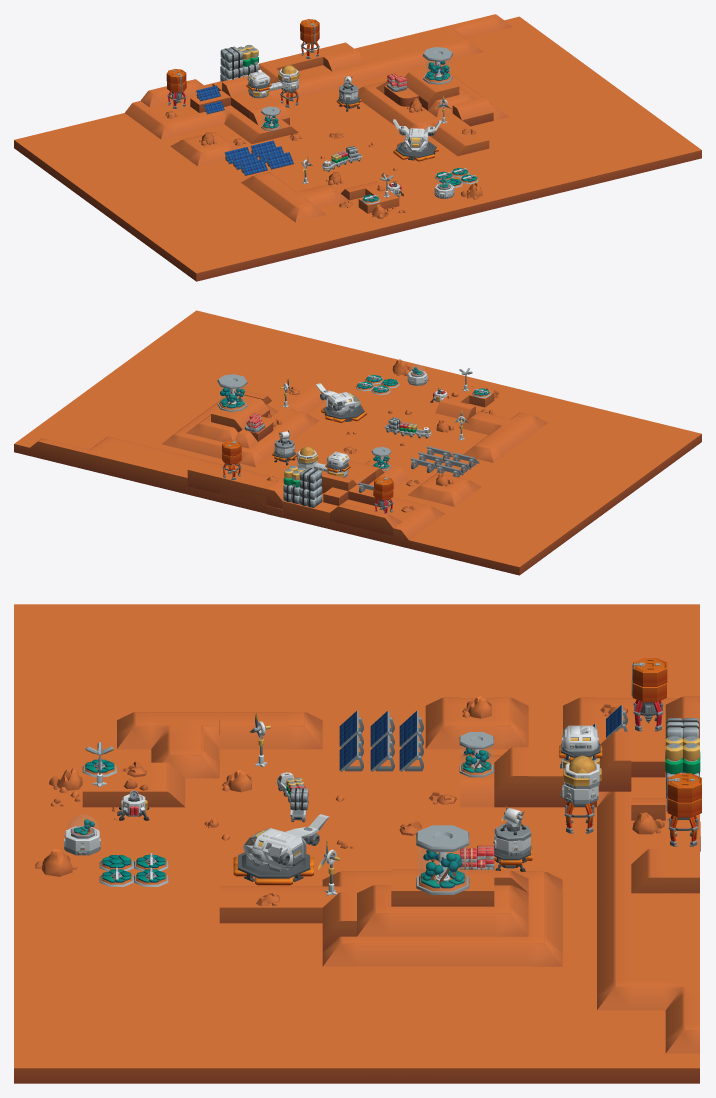
File: mars-empires.glb
The picture shows the model from 3 angles, top to bottom: view 1: azimuth 30°, elevation 25°; view 2: azimuth 150°, elevation 25°; view 3: azimuth 270°, elevation 25°; orthographic projection. The views are drawn at different scales.
Visible parts, largest first — view 1: terrain_low.172, solarpanel.012, landingpad_small.001, cargo_B_stacked.005, eco_module.003, drill_structure.001, basemodule_B.001, space_farm_large.001, spacetruck.001, lander_base.001, water_storage.007; view 2: terrain_low.172, cargo_B_stacked.005, landingpad_small.001, solarpanel.012, eco_module.003, drill_structure.001, space_farm_large.001, spacetruck.001, basemodule_B.001, lander_base.001, water_storage.007; view 3: terrain_low.172, landingpad_small.001, solarpanel.012, eco_module.003, drill_structure.001, cargo_B_stacked.005, space_farm_large.001, water_storage.007, lander_base.001, eco_module.002, basemodule_B.001, basemodule_C.004 (+3 smaller).
Boxes of the visible parts, x1,y1,x2,y2 form: terrain_low.172: (14, 14, 701, 281); solarpanel.012: (224, 140, 293, 175); landingpad_small.001: (393, 119, 441, 161); cargo_B_stacked.005: (220, 45, 259, 81); eco_module.003: (422, 47, 452, 84); drill_structure.001: (166, 69, 186, 108); basemodule_B.001: (246, 69, 271, 98); space_farm_large.001: (434, 168, 478, 187); spacetruck.001: (322, 146, 362, 171); lander_base.001: (336, 84, 361, 111); water_storage.007: (300, 19, 319, 42); terrain_low.172: (14, 310, 701, 575); cargo_B_stacked.005: (283, 465, 322, 507); landingpad_small.001: (315, 383, 366, 422); solarpanel.012: (410, 446, 479, 477); eco_module.003: (217, 374, 247, 411); drill_structure.001: (373, 476, 393, 514); space_farm_large.001: (355, 375, 399, 394); spacetruck.001: (384, 417, 431, 438); basemodule_B.001: (325, 451, 350, 477); lander_base.001: (272, 439, 296, 465); water_storage.007: (222, 440, 241, 464); terrain_low.172: (14, 604, 700, 1083); landingpad_small.001: (233, 814, 329, 885); solarpanel.012: (339, 711, 423, 771); eco_module.003: (416, 825, 469, 894); drill_structure.001: (631, 658, 667, 731); cargo_B_stacked.005: (665, 718, 700, 798); space_farm_large.001: (99, 853, 168, 886); water_storage.007: (666, 773, 701, 817); lander_base.001: (493, 823, 532, 871); eco_module.002: (459, 732, 493, 777); basemodule_B.001: (559, 725, 602, 769); basemodule_C.004: (64, 815, 100, 855).
Bounding box in the file's own units: 64 × 7.08 × 40.11.
Materials: 41 (39 with a texture image).
